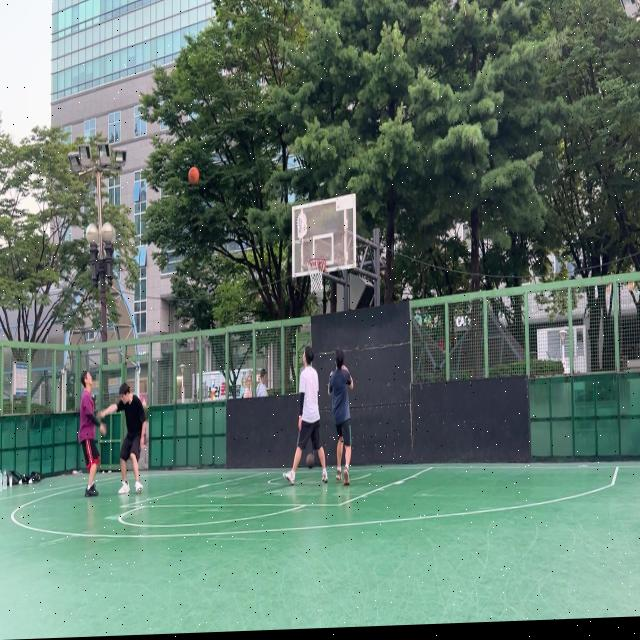basketball: (188, 166, 200, 185), (306, 453, 315, 469)
hoop: (306, 257, 326, 293)
